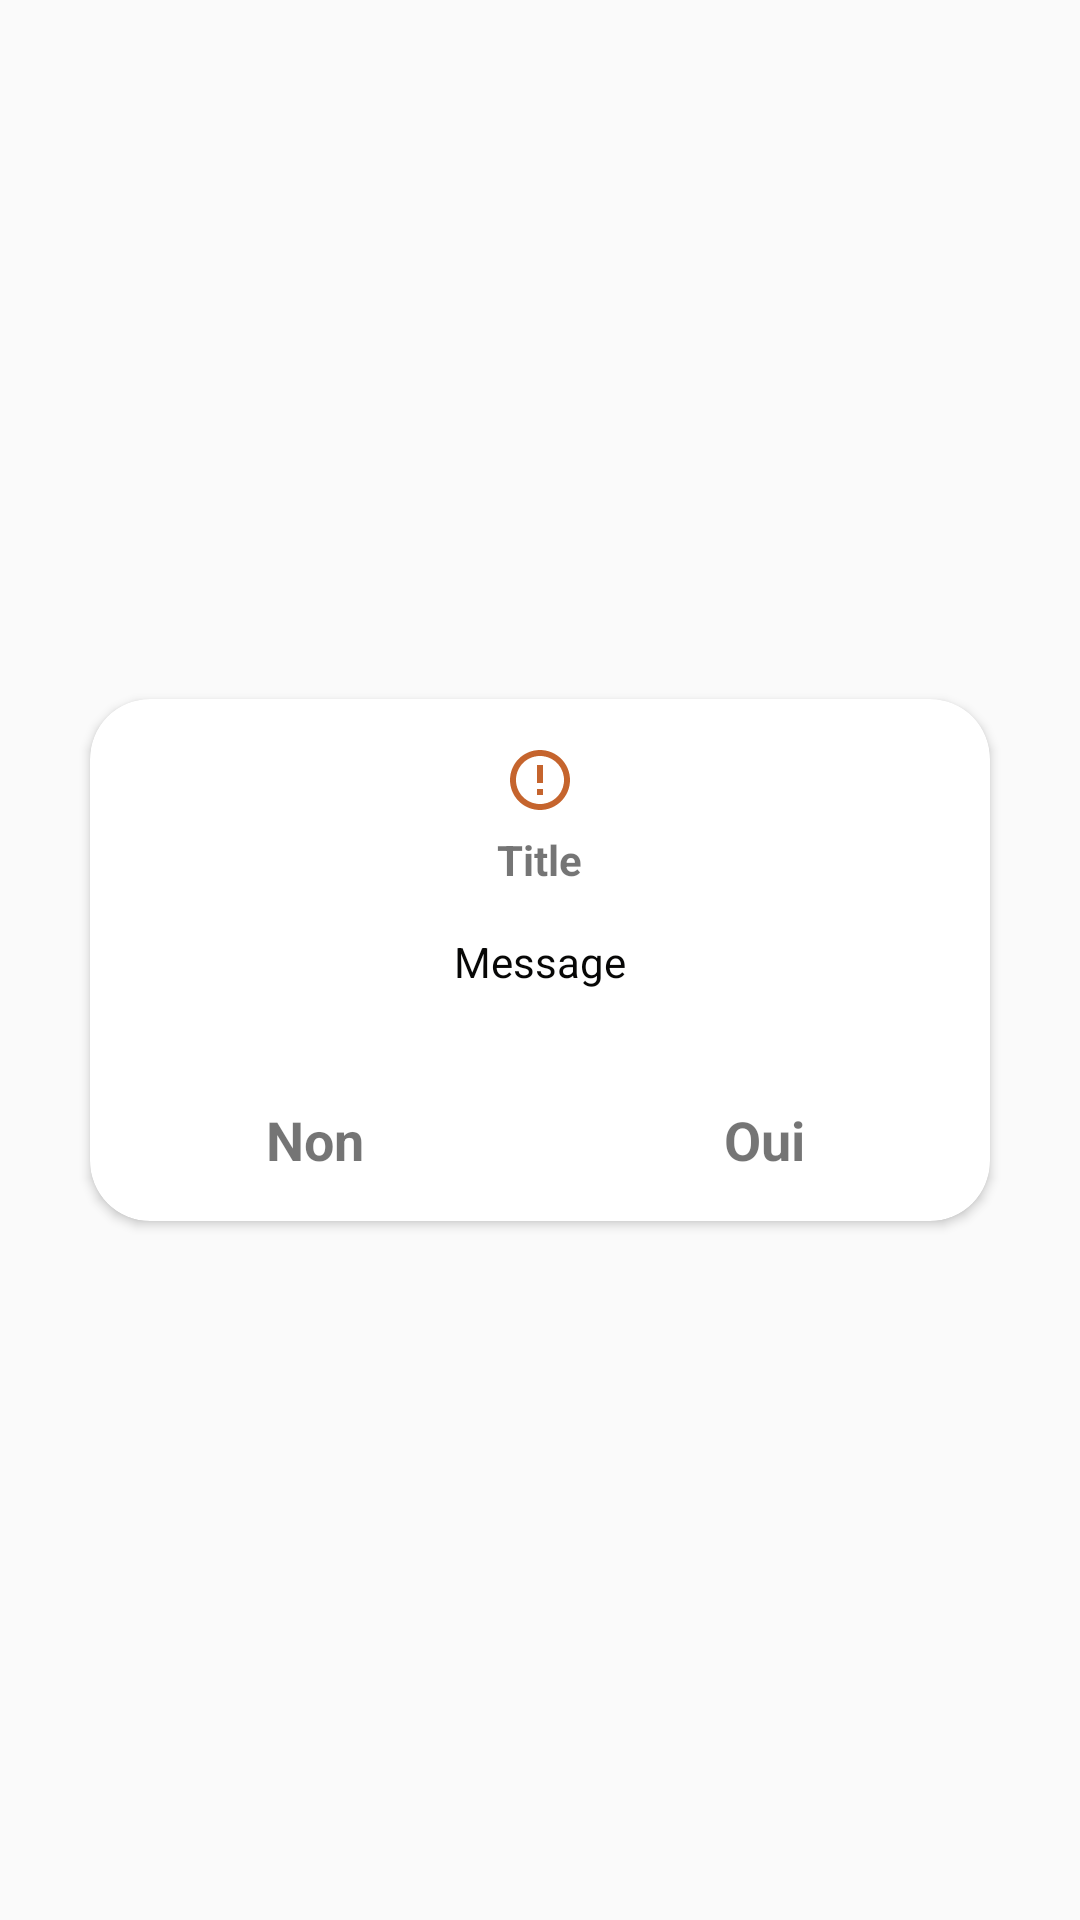

Where to tap for icons on this 1080*1920 app screen, as point (x, y):
error: point (540, 780)
